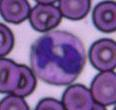N: (29, 30, 86, 86)
